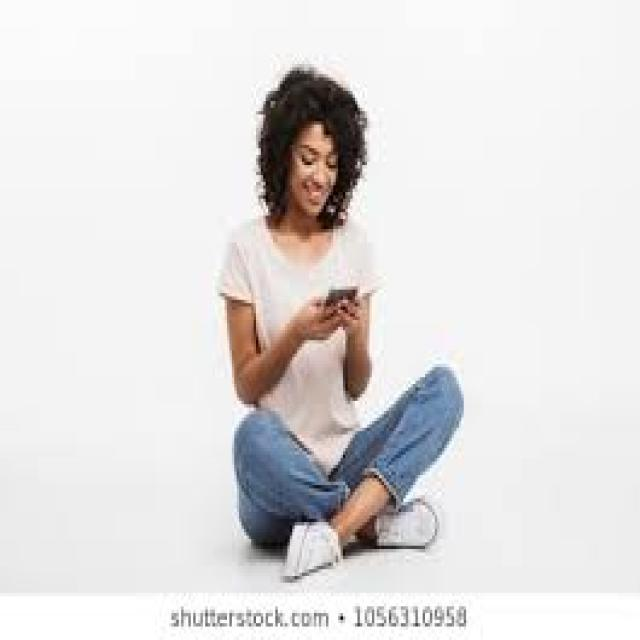nonfall: (223, 36, 463, 578)
